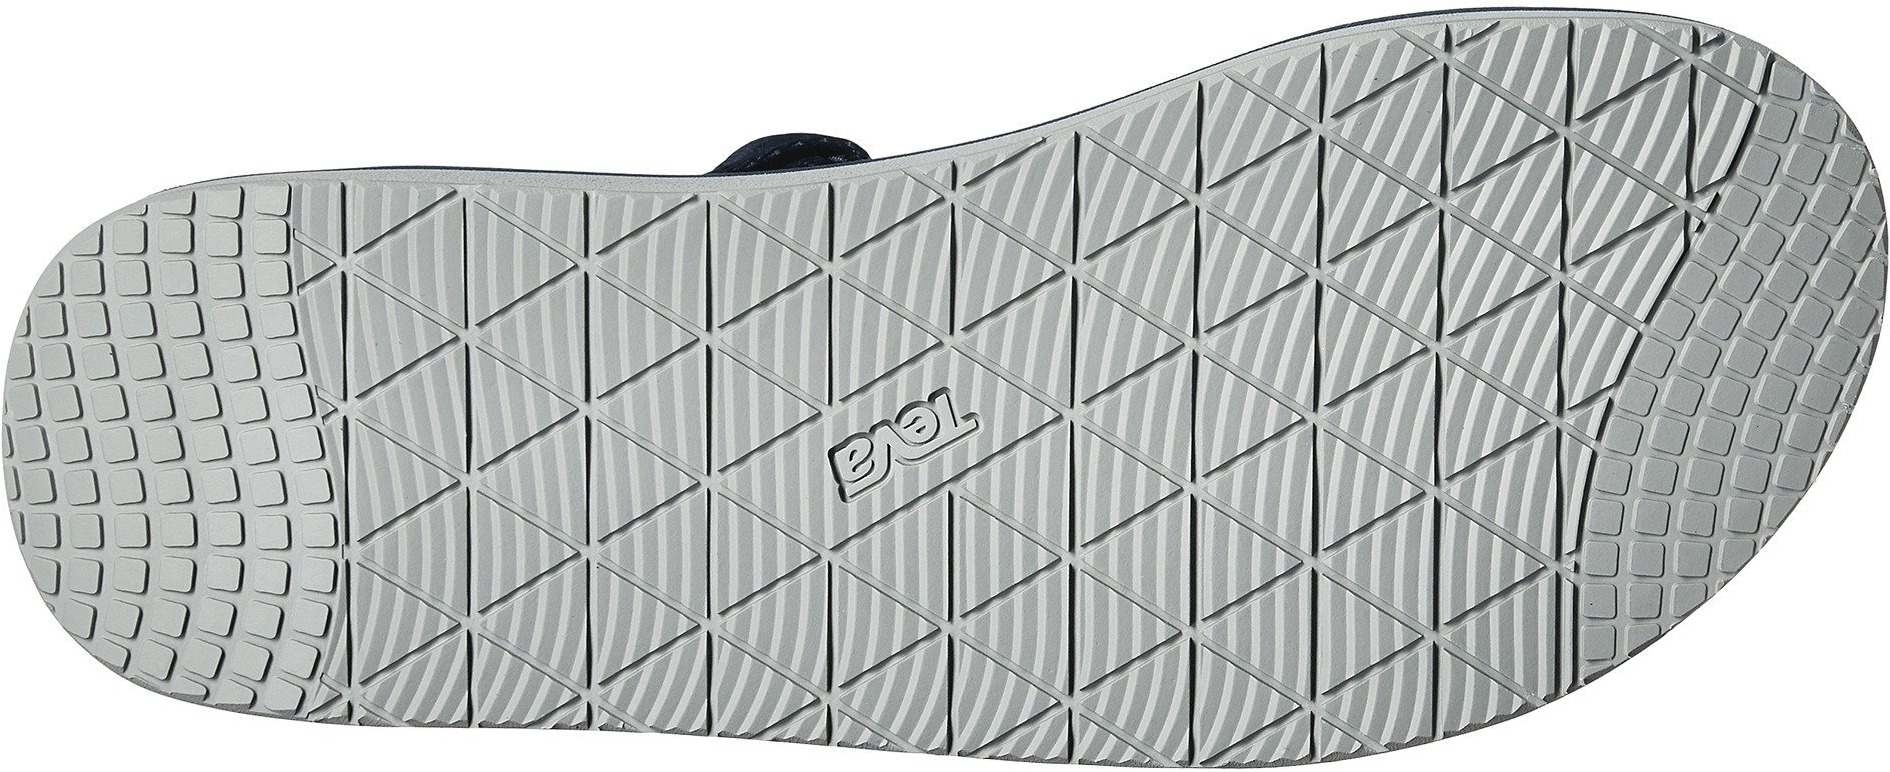line: (1581, 279, 1710, 391)
polygon: (1056, 154, 1401, 505), (319, 199, 661, 516), (837, 501, 1108, 747), (1398, 30, 1668, 276)
quad: (1056, 154, 1401, 505), (319, 199, 661, 516), (43, 308, 318, 590), (837, 501, 1108, 747), (1398, 30, 1668, 276), (1732, 192, 1886, 367), (1622, 397, 1784, 560), (1581, 279, 1710, 391)
text: (859, 415, 952, 482)
triangle: (1056, 154, 1401, 505), (319, 199, 661, 516), (1123, 454, 1421, 745), (837, 501, 1108, 747), (1398, 30, 1668, 276), (594, 527, 808, 736), (363, 527, 575, 724), (682, 209, 899, 394), (1393, 287, 1540, 429)
